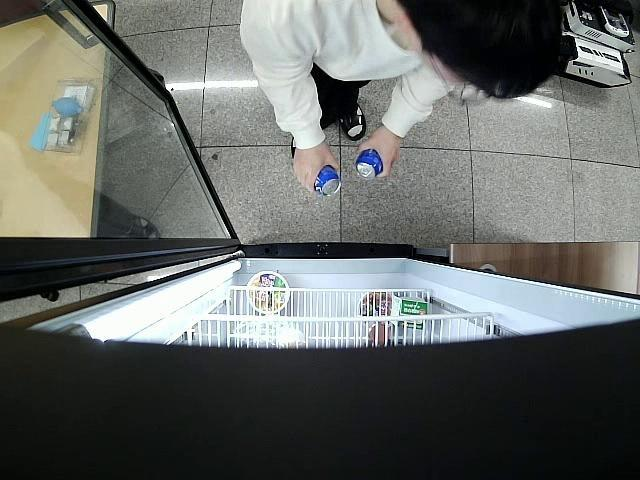13_pocariSweat: (356, 148, 384, 182), (314, 166, 342, 198)
